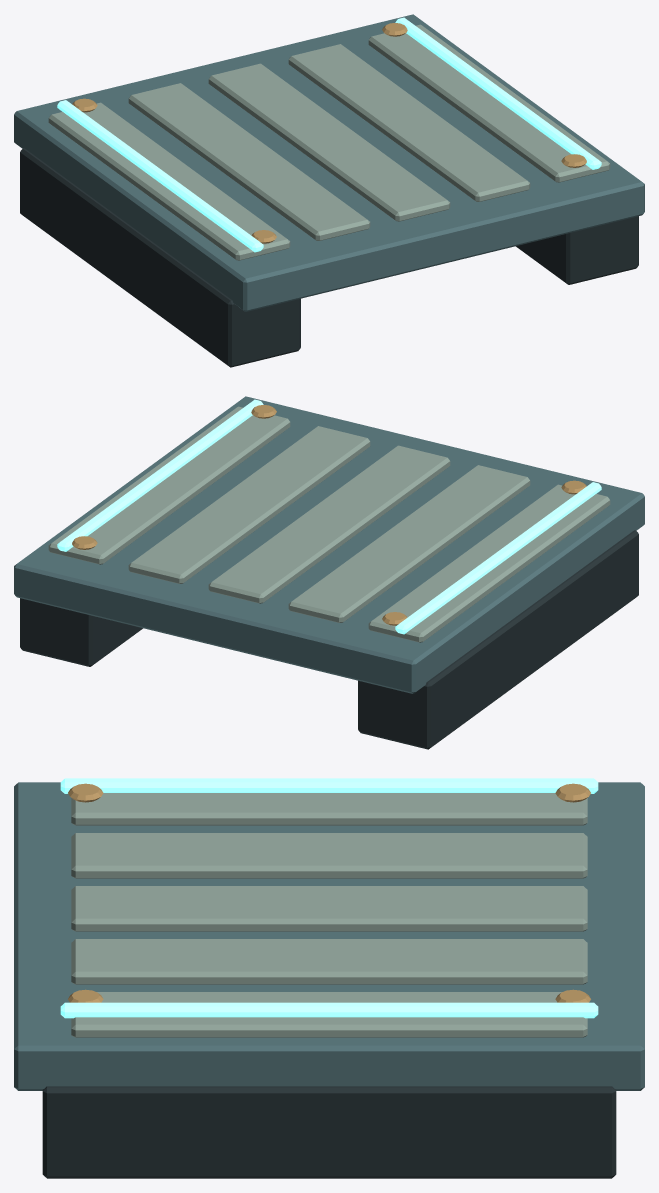
The model's file is tidal_raft.glb.
3 renders of one model, top to bottom at view 1: azimuth 30°, elevation 25°; view 2: azimuth 150°, elevation 25°; view 3: azimuth 270°, elevation 25°, orthographic. The views are drawn at different scales.
Parts seen in each view (by area): view 1: tidal_raft_surfaces; view 2: tidal_raft_surfaces; view 3: tidal_raft_surfaces.
Part boxes in pixels (x1=…): tidal_raft_surfaces: x1=14, y1=14, x2=644, y2=367; tidal_raft_surfaces: x1=14, y1=396, x2=644, y2=749; tidal_raft_surfaces: x1=14, y1=778, x2=644, y2=1178.
Bounding box in the file's own units: 1.8 × 0.466 × 1.76.
